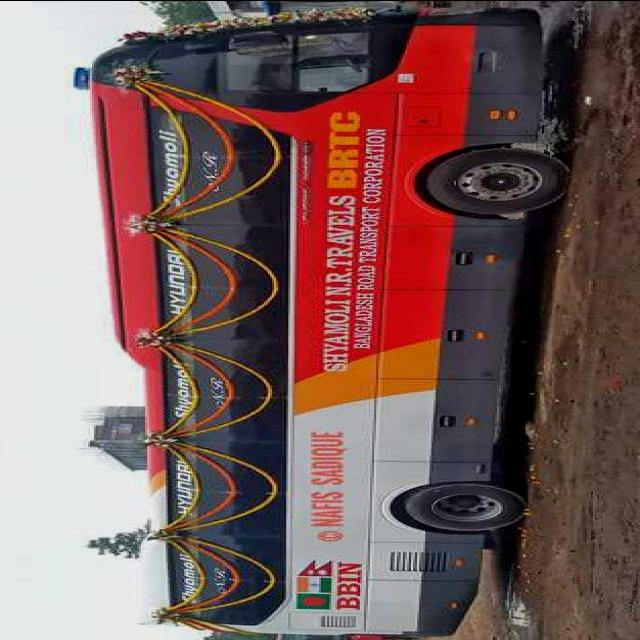bus: (88, 8, 574, 637)
